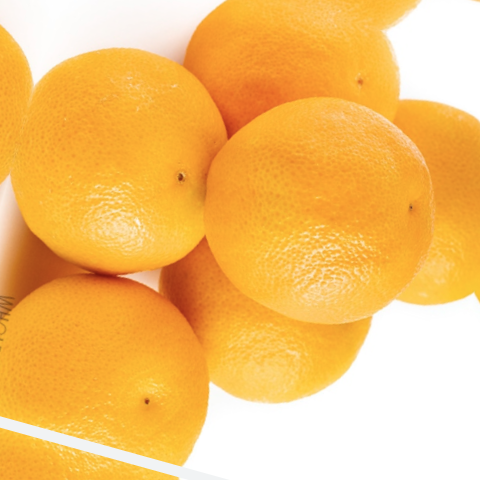orange: (172, 61, 462, 363), (0, 13, 260, 334), (0, 243, 273, 480)
